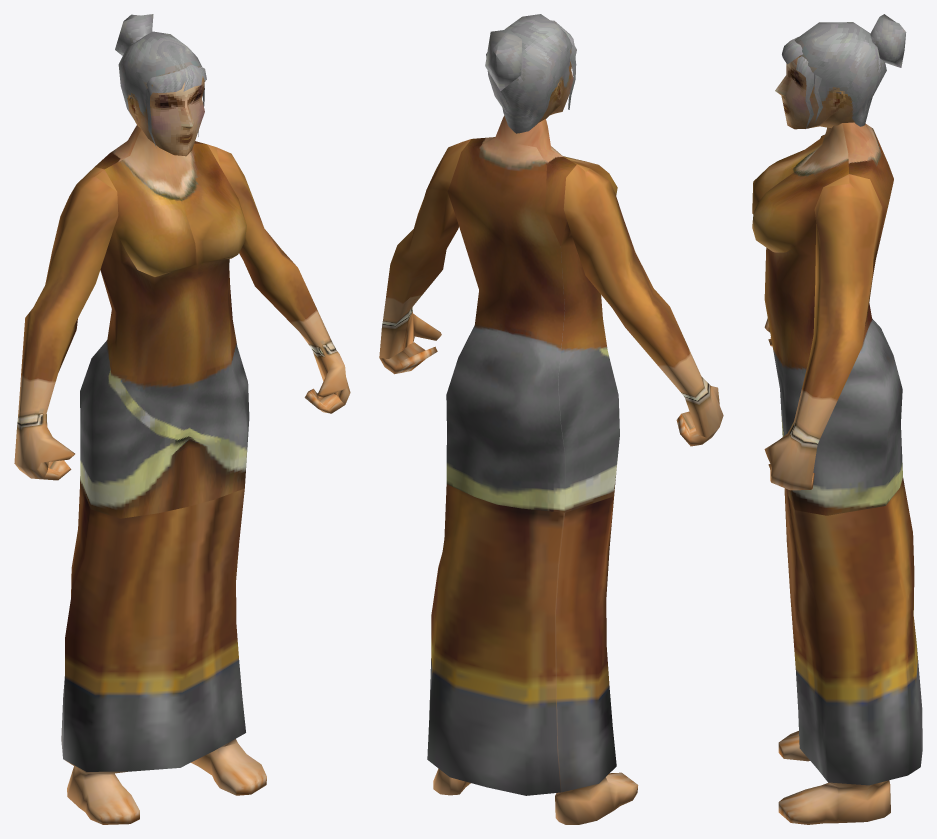
File: token-citizen.glb
3 renders of one model, left to right at view 1: azimuth 30°, elevation 25°; view 2: azimuth 150°, elevation 25°; view 3: azimuth 270°, elevation 25°, orthographic. The views are drawn at different scales.
Bounding box in the file's own units: 0.1884 × 0.42 × 0.0848.
Materials: 1 (1 with a texture image).
